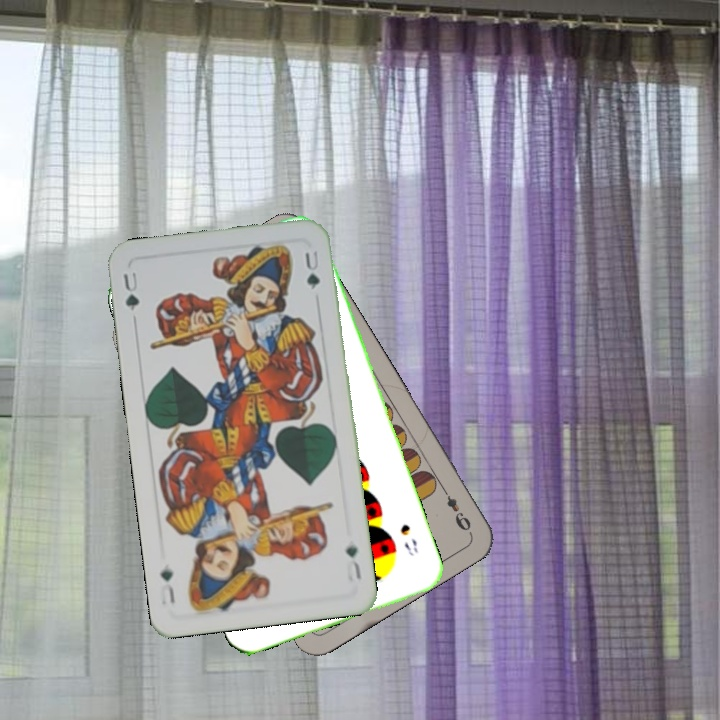E9: (437, 482, 474, 534)
GU: (119, 268, 143, 314), (341, 540, 364, 582)
S8: (396, 520, 421, 559)
